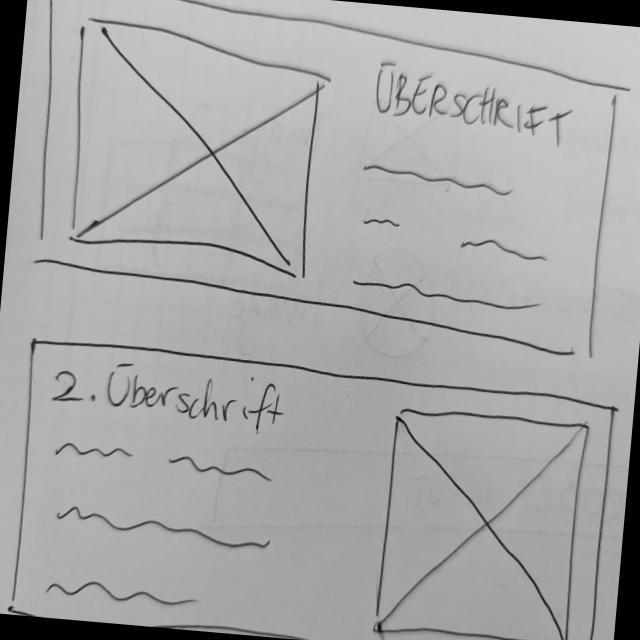container: (17, 1, 627, 364), (7, 334, 620, 640)
image: (59, 14, 331, 283), (371, 403, 593, 640)
label: (50, 356, 289, 440), (368, 59, 577, 155)
textbox: (40, 435, 280, 618), (347, 157, 559, 322)
